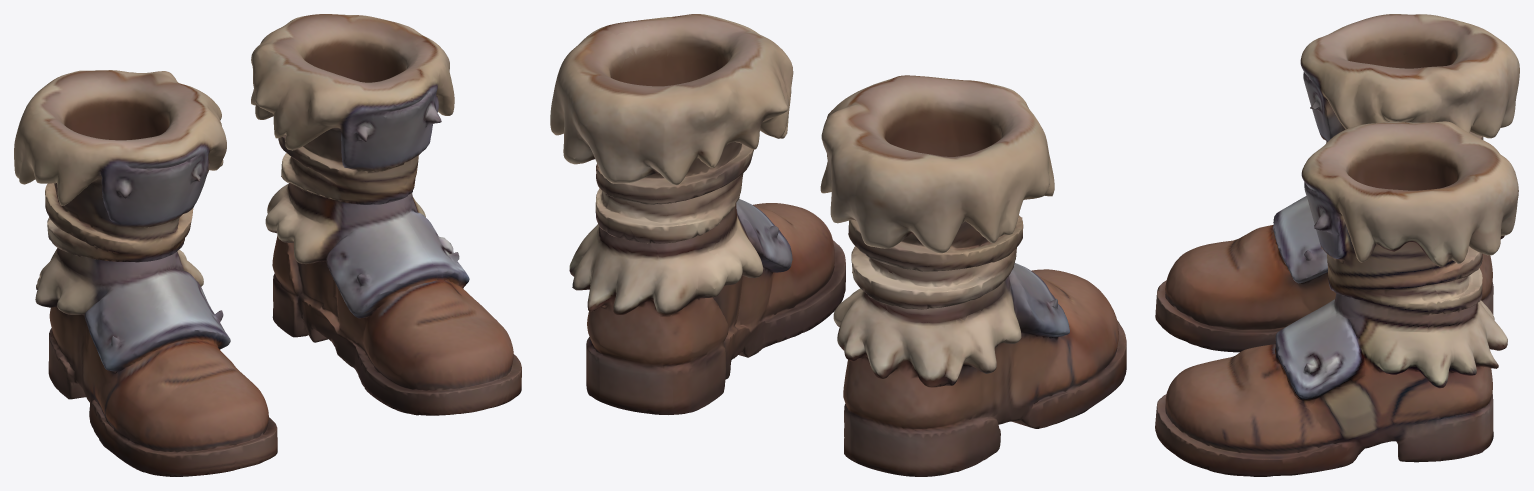
The model's file is bota-barbaro.glb.
3 views of the same model, side by side, from view 1: azimuth 30°, elevation 25°; view 2: azimuth 150°, elevation 25°; view 3: azimuth 270°, elevation 25° (orthographic). The views are drawn at different scales.
Parts seen in each view (by area): view 1: tripo_node_f229ffa2-e08e-421b-a2ef-4f7bcf6025ce.001; view 2: tripo_node_f229ffa2-e08e-421b-a2ef-4f7bcf6025ce.001; view 3: tripo_node_f229ffa2-e08e-421b-a2ef-4f7bcf6025ce.001.
Boxes of the visible parts, x1=… form: tripo_node_f229ffa2-e08e-421b-a2ef-4f7bcf6025ce.001: x1=14, y1=14, x2=521, y2=476; tripo_node_f229ffa2-e08e-421b-a2ef-4f7bcf6025ce.001: x1=550, y1=14, x2=1126, y2=476; tripo_node_f229ffa2-e08e-421b-a2ef-4f7bcf6025ce.001: x1=1155, y1=14, x2=1519, y2=476.
Bounding box in the file's own units: 0.1787 × 0.1203 × 0.1391.
1 material, 1 textured.
